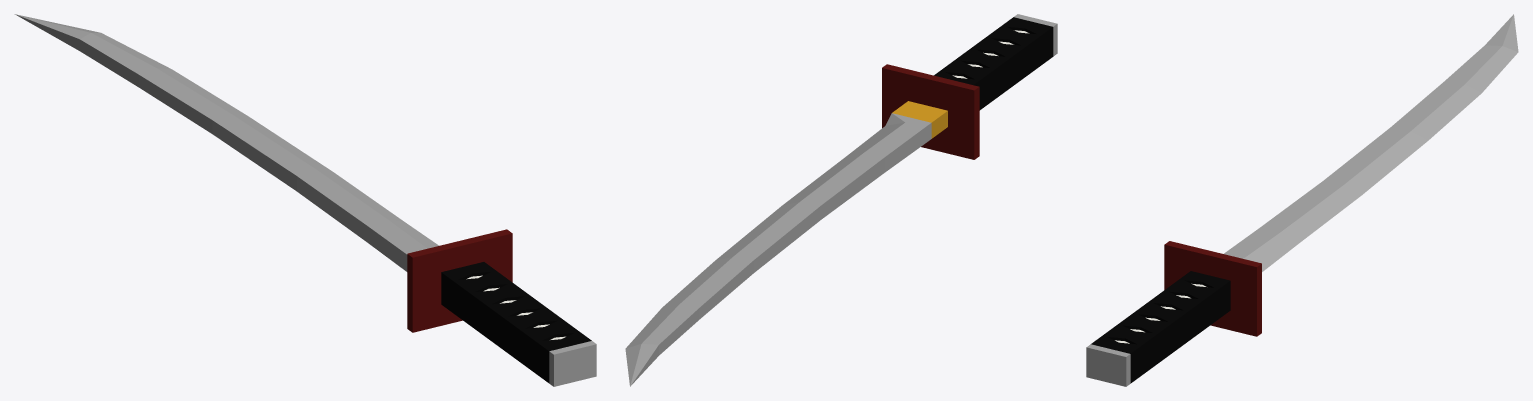
Rendered from Wakizashi - Textured Low Poly Asian Weapon Pack by Kickin It Studios.fbx.
The picture shows the model from 3 angles, left to right: view 1: azimuth 30°, elevation 25°; view 2: azimuth 150°, elevation 25°; view 3: azimuth 330°, elevation 25°; orthographic projection. The views are drawn at different scales.
Visible parts, largest first — view 1: Wakizashi; view 2: Wakizashi; view 3: Wakizashi.
Boxes of the visible parts, box(x1,y1,x2,y2) form: Wakizashi: box(14, 14, 596, 386); Wakizashi: box(625, 14, 1057, 386); Wakizashi: box(1086, 14, 1518, 386).
Bounding box in the file's own units: 54.7 × 35.52 × 429.
